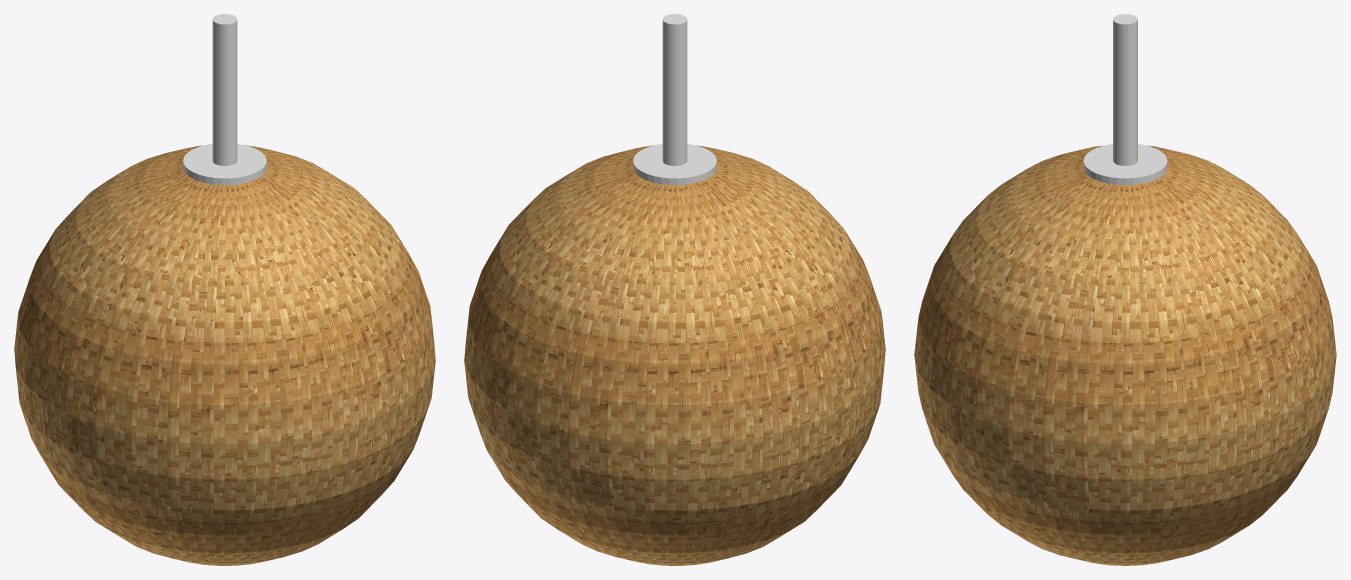
The model's file is bamboo.fbx.
3 renders of one model, left to right at view 1: azimuth 30°, elevation 25°; view 2: azimuth 150°, elevation 25°; view 3: azimuth 270°, elevation 25°, orthographic.
Visible parts, largest first — view 1: Sphere; view 2: Sphere; view 3: Sphere.
Boxes of the visible parts, <box> form: Sphere: <box>14,14,435,565</box>; Sphere: <box>464,14,885,565</box>; Sphere: <box>914,14,1336,565</box>.
Bounding box in the file's own units: 200 × 274 × 200.
